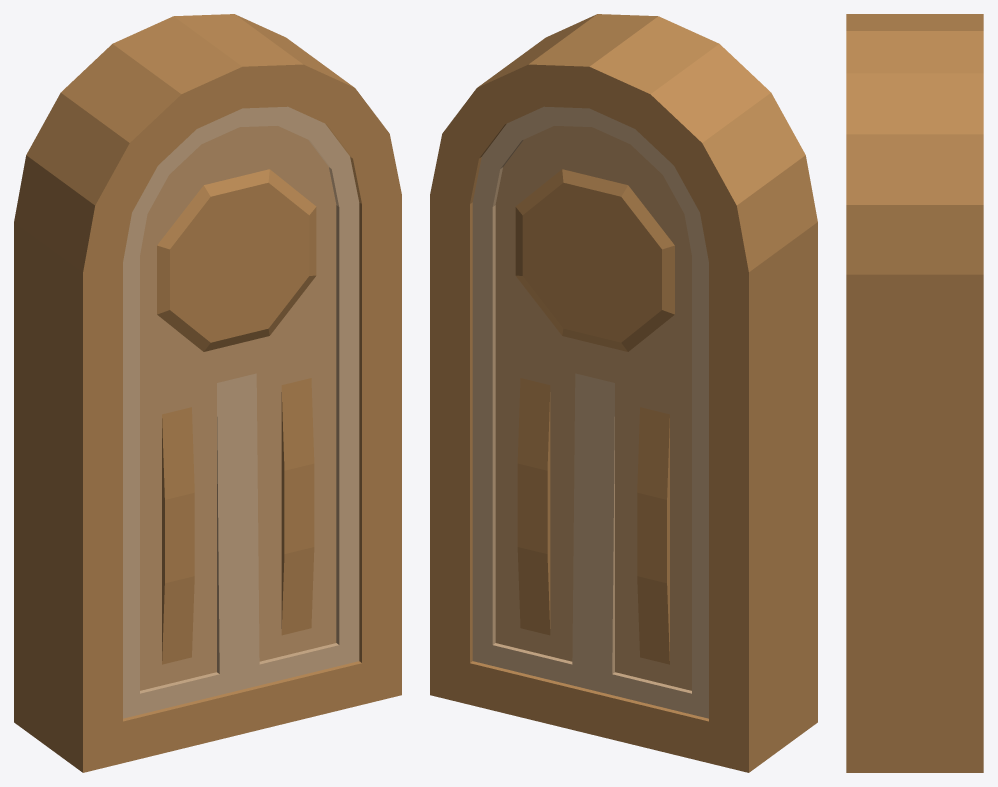
The model's file is Wall_Straight_Door_Sun.fbx.
3 renders of one model, left to right at view 1: azimuth 30°, elevation 25°; view 2: azimuth 150°, elevation 25°; view 3: azimuth 270°, elevation 25°, orthographic.
Visible parts, largest first — view 1: Sandstone_6.Sandstone_6.Sandstone_6.Sandstone_6, Sandstone_5.Sandstone_5, Sandstone_4.Sandstone_4.Sandstone_4.Sandstone_4.Sandstone_4.; view 2: Sandstone_6.Sandstone_6.Sandstone_6.Sandstone_6, Sandstone_5.Sandstone_5, Sandstone_4.Sandstone_4.Sandstone_4.Sandstone_4.Sandstone_4.; view 3: Sandstone_6.Sandstone_6.Sandstone_6.Sandstone_6.
Boxes of the visible parts, x1=… form: Sandstone_6.Sandstone_6.Sandstone_6.Sandstone_6: x1=14, y1=14, x2=401, y2=772; Sandstone_5.Sandstone_5: x1=140, y1=126, x2=336, y2=690; Sandstone_4.Sandstone_4.Sandstone_4.Sandstone_4.Sandstone_4.: x1=123, y1=106, x2=359, y2=718; Sandstone_6.Sandstone_6.Sandstone_6.Sandstone_6: x1=430, y1=14, x2=817, y2=772; Sandstone_5.Sandstone_5: x1=495, y1=126, x2=691, y2=690; Sandstone_4.Sandstone_4.Sandstone_4.Sandstone_4.Sandstone_4.: x1=472, y1=106, x2=708, y2=718; Sandstone_6.Sandstone_6.Sandstone_6.Sandstone_6: x1=846, y1=14, x2=983, y2=772.
Bounding box in the file's own units: 0.8 × 1.6 × 0.3.
